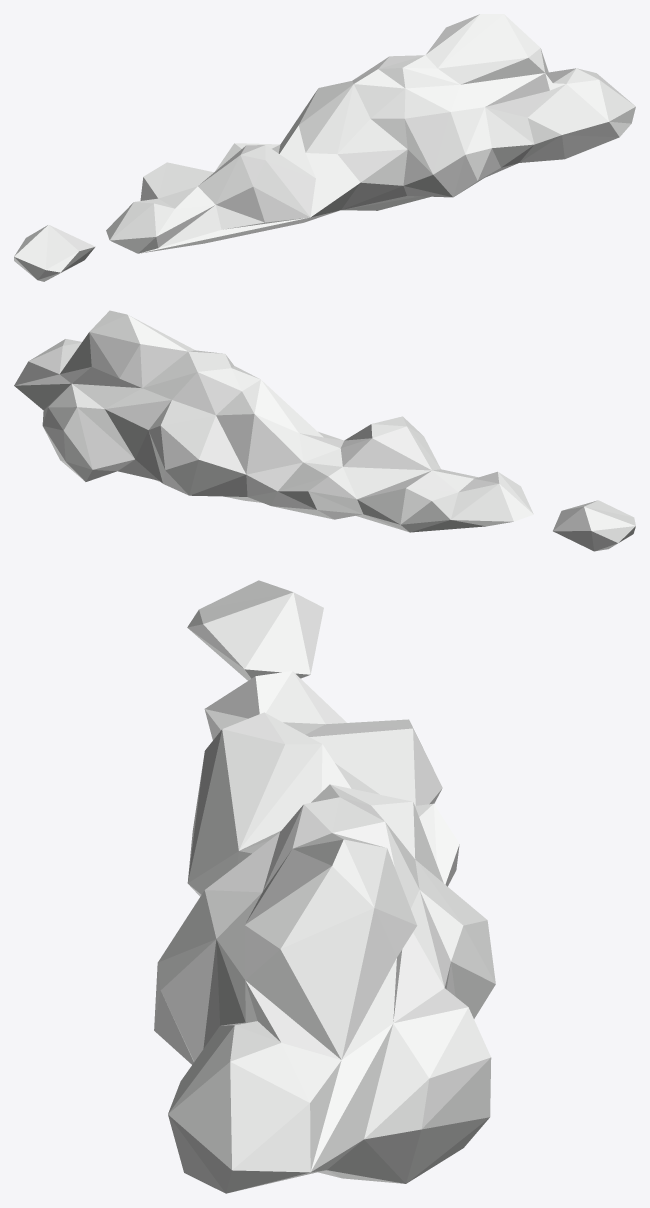
File: cloud.glb
The picture shows the model from 3 angles, top to bottom: view 1: azimuth 30°, elevation 25°; view 2: azimuth 150°, elevation 25°; view 3: azimuth 270°, elevation 25°; orthographic projection. The views are drawn at different scales.
Visible parts, largest first — view 1: SM_Env_Cloud_01; view 2: SM_Env_Cloud_01; view 3: SM_Env_Cloud_01.
Boxes of the visible parts, box(x1,y1,x2,y2) form: SM_Env_Cloud_01: box(14, 14, 635, 281); SM_Env_Cloud_01: box(14, 310, 635, 551); SM_Env_Cloud_01: box(154, 580, 495, 1193).
Bounding box in the file's own units: 33.39 × 8.26 × 8.04.
Materials: 1 (1 with a texture image).
